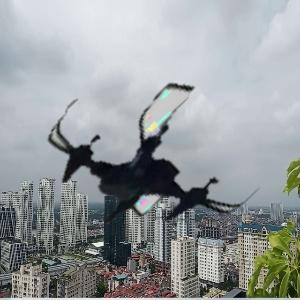drone: (50, 67, 246, 263)
